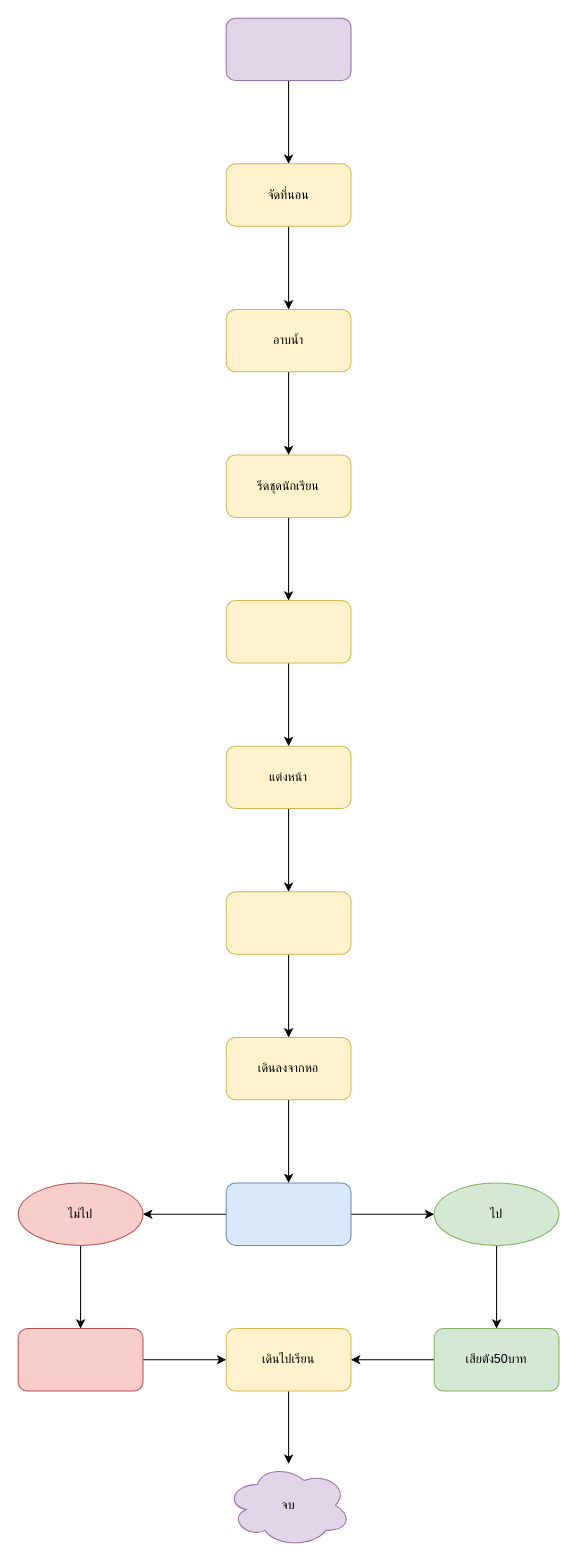
Image size: 577x1565. Some labels were removed from this diagram. Here are the shapes that lost their labels. From the top down, the box of each, then its label:
(225, 17, 351, 81): เริ่มต้น
(225, 600, 351, 663): ทำผม
(225, 891, 351, 954): ตรวจเครื่อแต่งกาย
(225, 1182, 351, 1245): เดินไปสหการเพื่อซื้อข้าว
(17, 1328, 143, 1391): ไม่ต้องเสียตัง50บาท
